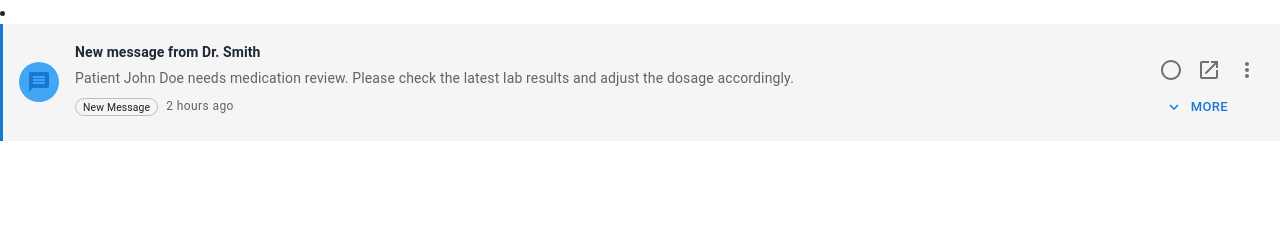
NotificationItem › Menu Actions › opens action menu when more button is clicked
What coordinates should you click on to do the following:
click the button named "more actions"
I would click on:
 (1247, 70)
Its box is 1230,53 -> 1264,87.
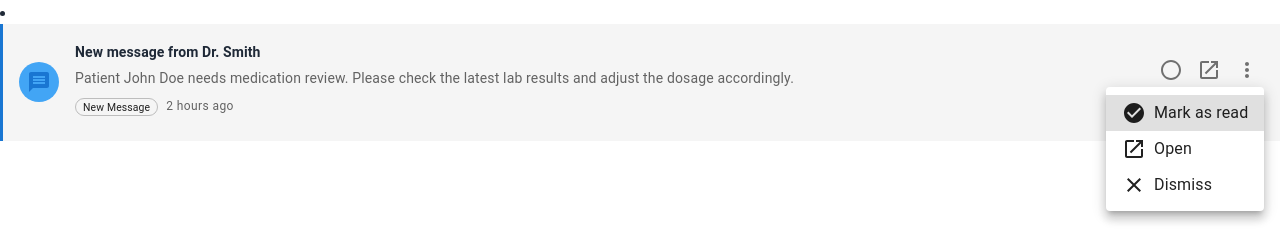
Now the menu item "Mark as read" is shown, box 1106,95 -> 1264,131
Now the menu item "Open" is shown, box 1122,137 -> 1192,161
Now the menu item "Dismiss" is shown, box 1122,173 -> 1212,197
